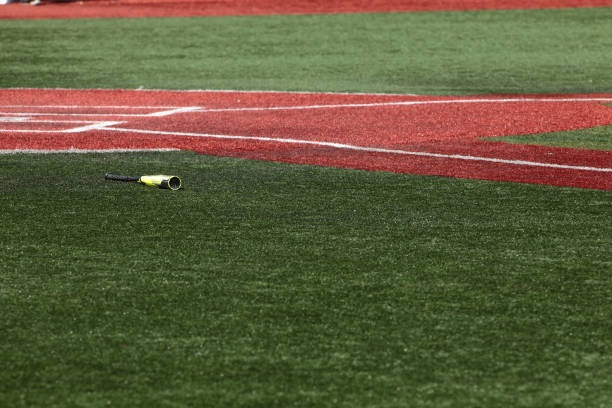bita: (100, 173, 186, 193)
